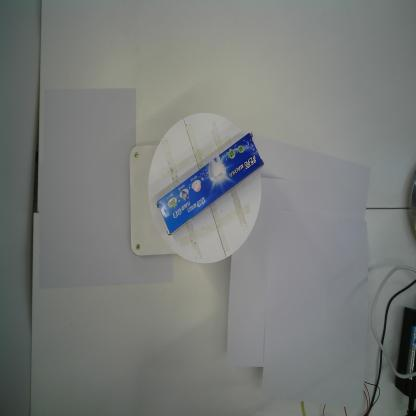Personal Hygiene: (154, 128, 265, 236)
